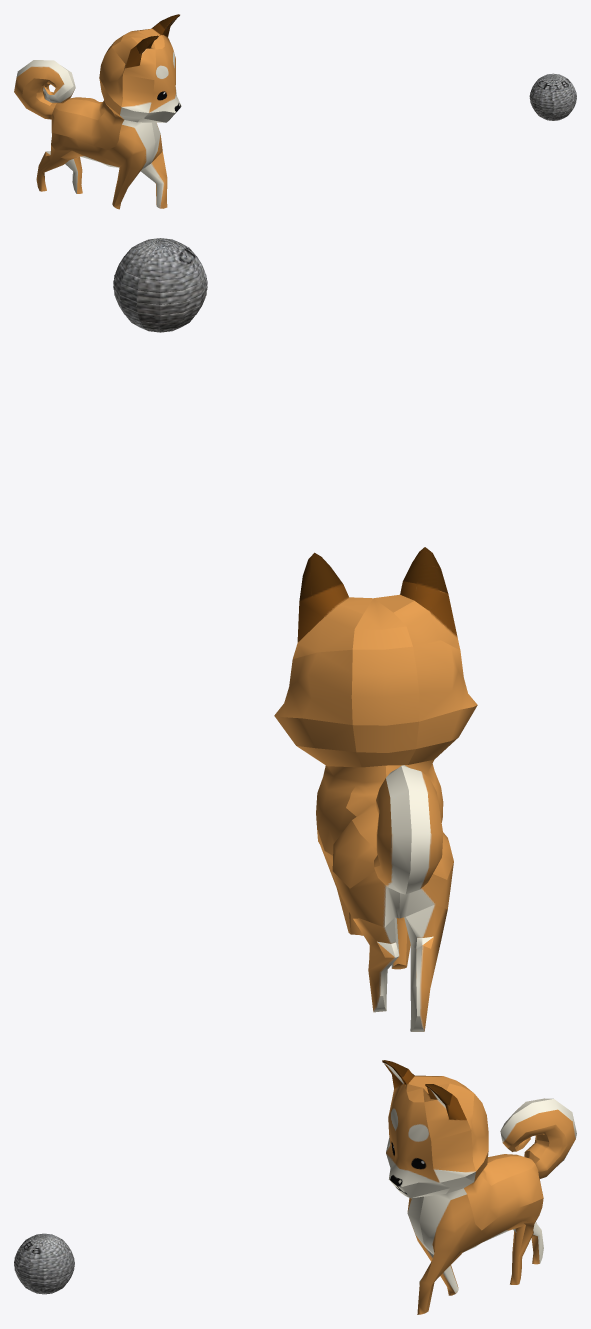
The model's file is ball_frame34.obj.
3 renders of one model, top to bottom at view 1: azimuth 30°, elevation 25°; view 2: azimuth 150°, elevation 25°; view 3: azimuth 270°, elevation 25°, orthographic. The views are drawn at different scales.
Visible parts, largest first — view 1: walk1:newRigging:BodzL1, pSphere1; view 2: walk1:newRigging:BodzL1, pSphere1; view 3: walk1:newRigging:BodzL1, pSphere1.
Part boxes in pixels (x1,y1,x2,y2): walk1:newRigging:BodzL1: (14, 14, 181, 209); pSphere1: (529, 73, 576, 120); walk1:newRigging:BodzL1: (274, 547, 477, 1031); pSphere1: (113, 238, 207, 332); walk1:newRigging:BodzL1: (382, 1060, 576, 1314); pSphere1: (14, 1233, 74, 1294).
Bounding box in the file's own units: 15.77 × 7.96 × 16.67.
Materials: 2 (2 with a texture image).
